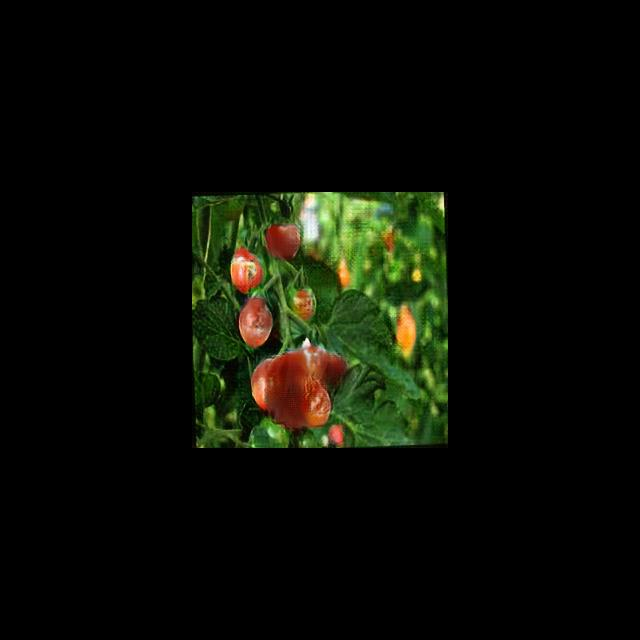tomato: (237, 296, 272, 348), (230, 247, 264, 291)
